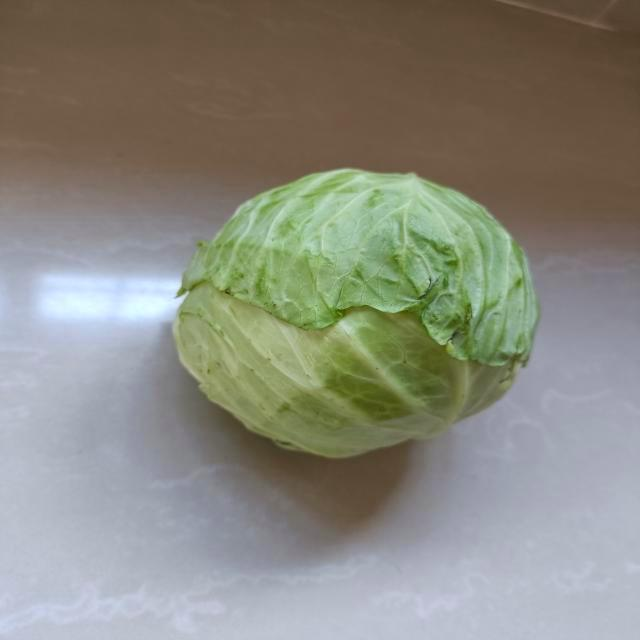cabbage: (160, 164, 547, 463)
